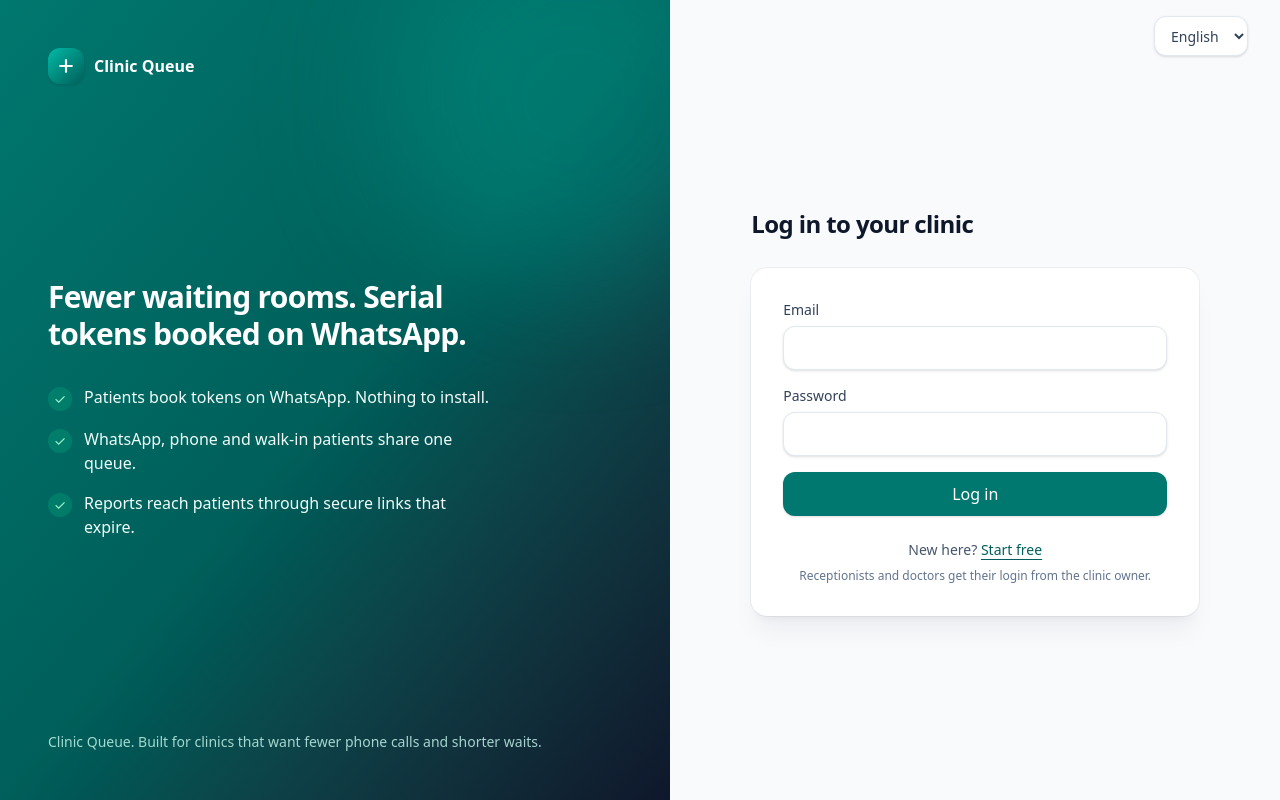
Test case: routing and sessions › shows a plain-language message for a wrong password, not the raw API code
Check: the heading "Log in to your clinic" is shown, box top-left (751, 207), bottom-right (973, 240)
Type "owner@clinic.test" into the field labelled "Email" at (975, 348), box top-left (783, 326), bottom-right (1167, 370)
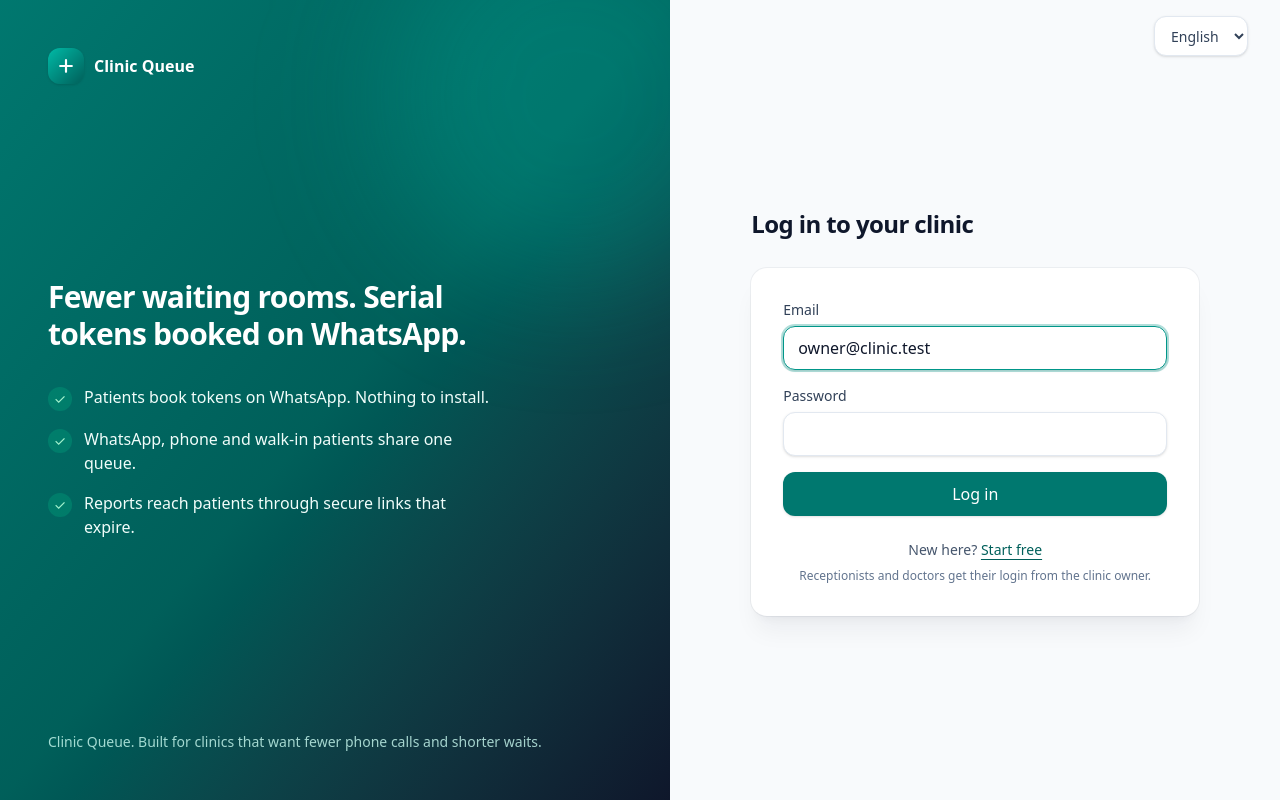
Type "wrong-password-1" into the password field labelled "Password" at (975, 434), box top-left (783, 412), bottom-right (1167, 456)
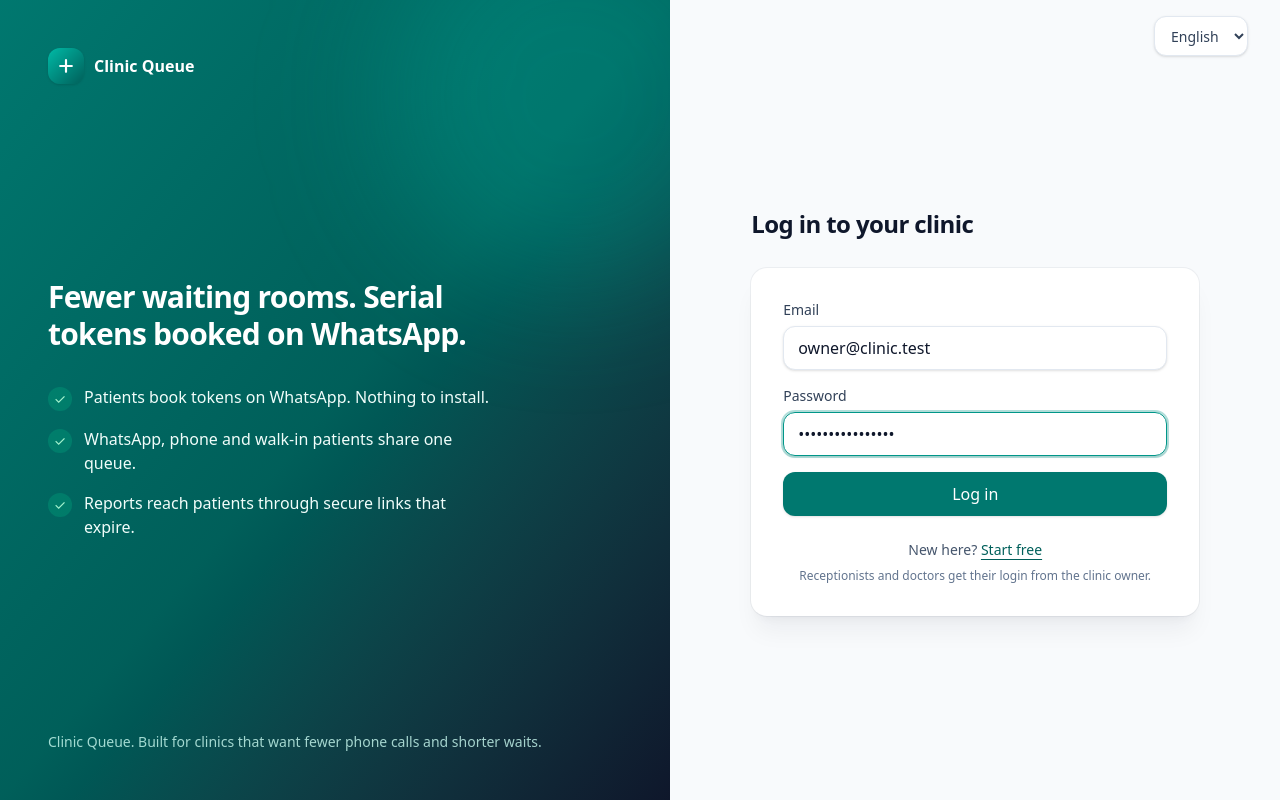
Click the button "Log in" at (975, 494), box top-left (783, 472), bottom-right (1167, 516)
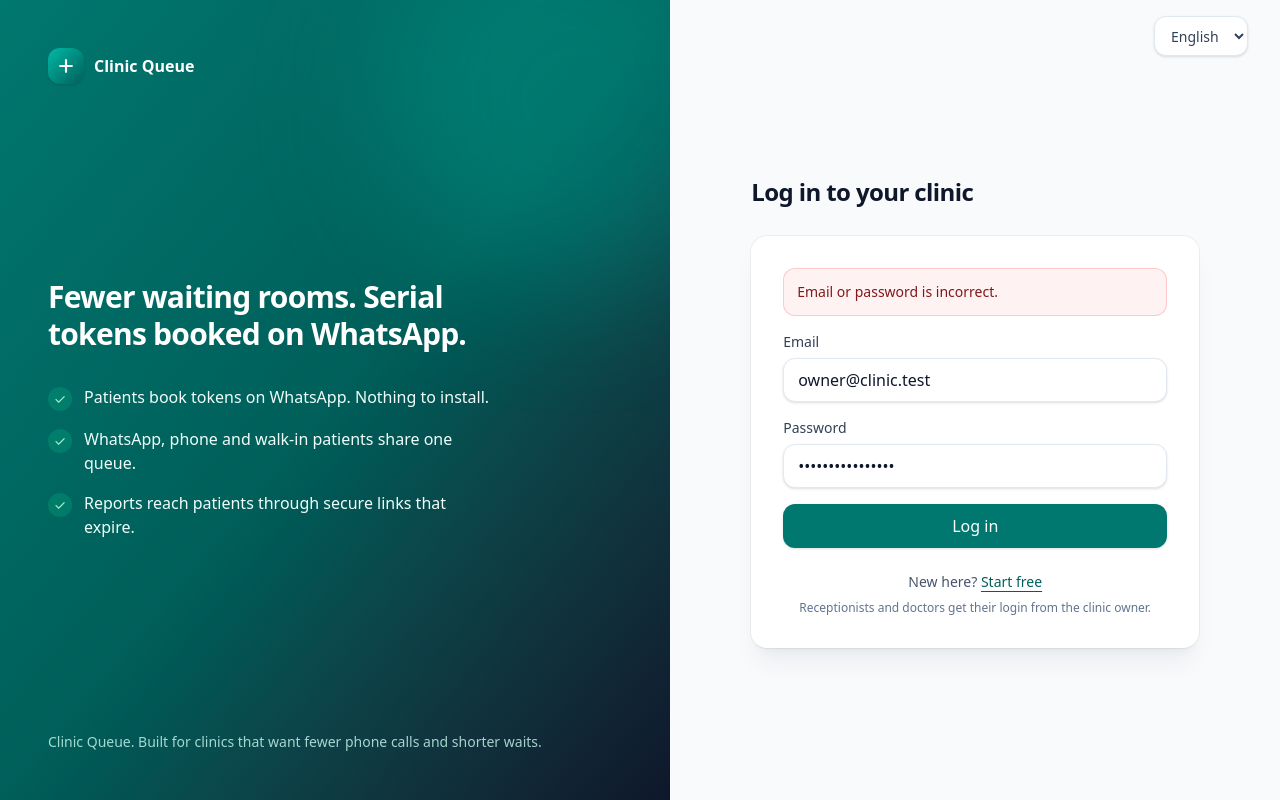
Check: the message reads "Email or password is incorrect.", box top-left (797, 282), bottom-right (998, 301)
